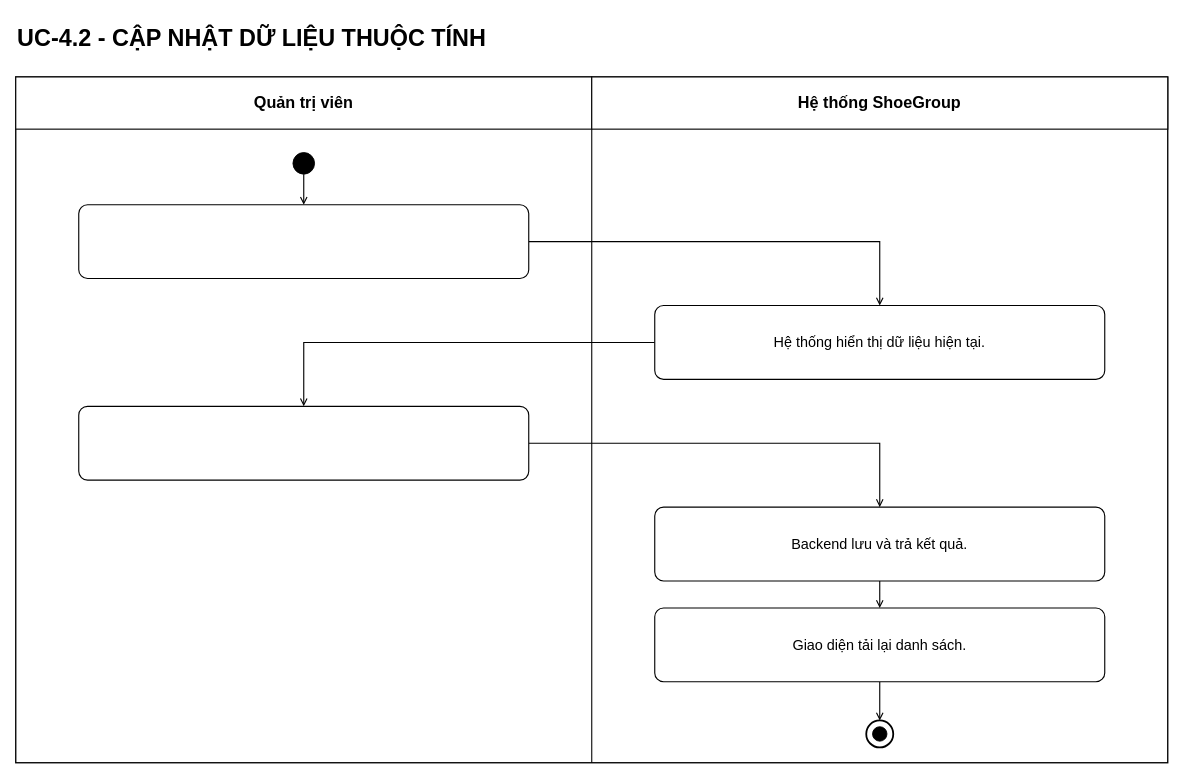
Image size: 1184x779. Some labels were removed from this diagram. Each missing label, with the centre of its shape:
Chọn bản ghi.: (303,241)
Cập nhật giá trị hợp lệ.: (303,442)
